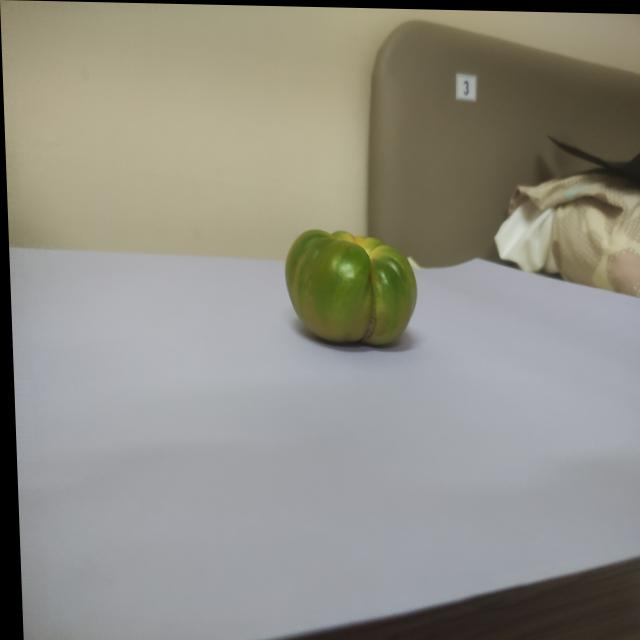yesil: (272, 217, 421, 359)
